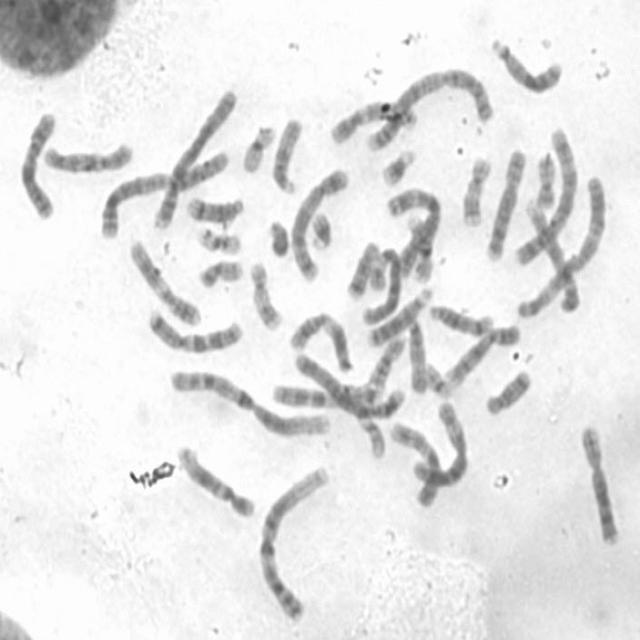A1: (257, 464, 332, 622), (168, 367, 333, 438)
A2: (97, 146, 233, 242), (364, 67, 494, 153)
A3: (516, 174, 606, 321), (385, 188, 443, 280)
B4: (151, 87, 240, 232), (292, 350, 407, 421)
B5: (512, 126, 580, 268), (288, 166, 352, 285)
C10: (388, 421, 444, 513), (43, 142, 134, 175)
C11: (128, 237, 205, 328), (289, 312, 353, 372)
C12: (174, 444, 258, 522), (327, 98, 421, 149)
C6: (412, 398, 471, 490), (359, 246, 402, 330)
C7: (146, 307, 245, 353), (270, 383, 380, 410)
C8: (579, 425, 623, 546), (484, 146, 527, 262)
C9: (522, 198, 580, 315), (445, 324, 523, 387)
D13: (486, 34, 565, 97), (366, 287, 431, 350)
D14: (428, 302, 494, 336), (186, 193, 244, 226)
D15: (270, 118, 304, 194), (402, 318, 428, 394)
E16: (402, 210, 436, 285), (366, 335, 405, 393)
E17: (247, 258, 284, 337), (460, 153, 492, 227)
E18: (484, 367, 534, 418), (346, 237, 380, 300)
F19: (240, 124, 278, 173), (197, 227, 241, 257)
F20: (198, 259, 244, 289), (534, 153, 558, 209)
G21: (380, 148, 418, 188), (310, 209, 335, 250)
G22: (354, 416, 387, 460), (420, 362, 450, 399)
X: (18, 110, 60, 224)
Y: (268, 218, 290, 258)
